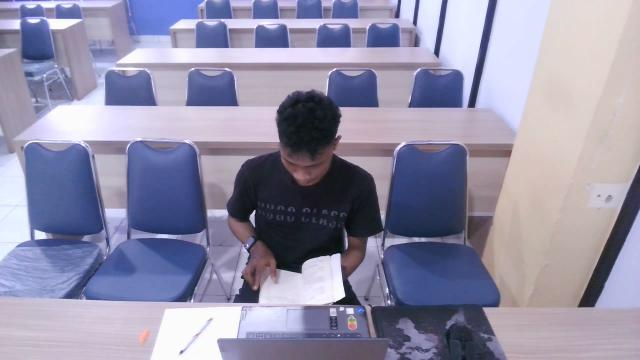Cheat_Sheet: (254, 254, 351, 307)
Head_Down_Extreme: (211, 79, 389, 318)
